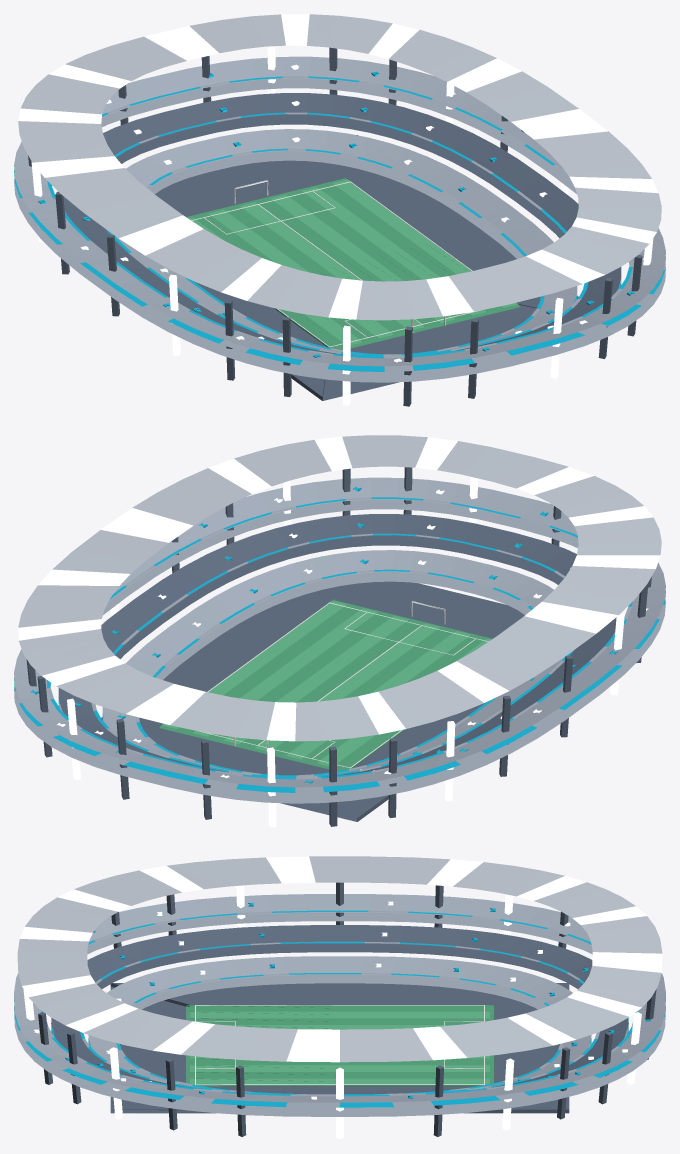
Rendered from arena-gremio.glb.
3 renders of one model, top to bottom at view 1: azimuth 30°, elevation 25°; view 2: azimuth 150°, elevation 25°; view 3: azimuth 270°, elevation 25°, orthographic. The views are drawn at different scales.
Visible parts, largest first — view 1: Arena do Grêmio; view 2: Arena do Grêmio; view 3: Arena do Grêmio.
Part boxes in pixels (box(x1,y1,x2,y2)): Arena do Grêmio: box(14, 14, 665, 406); Arena do Grêmio: box(14, 435, 665, 827); Arena do Grêmio: box(14, 856, 665, 1139).
Size of the model in its own units: 62.49 by 13.1 by 82.5.
